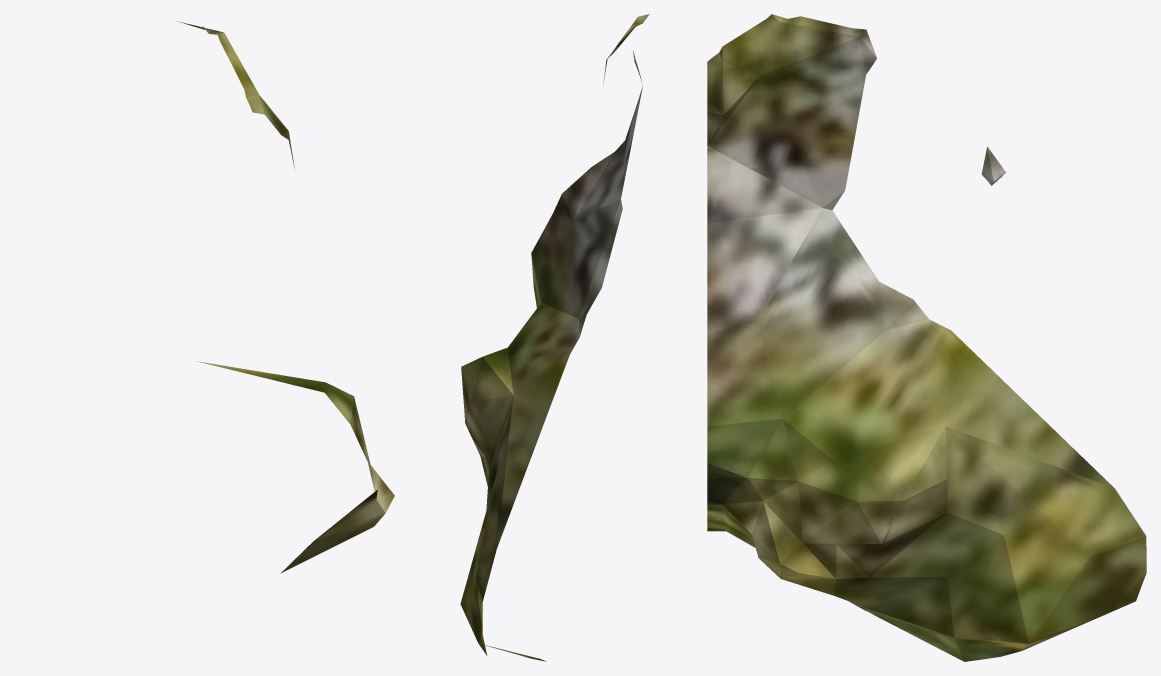
3 renders of one model, left to right at view 1: azimuth 30°, elevation 25°; view 2: azimuth 150°, elevation 25°; view 3: azimuth 270°, elevation 25°, orthographic. The views are drawn at different scales.
Size of the model in its own units: 0.4343 by 1.59 by 0.9794.
1 material, 1 textured.
